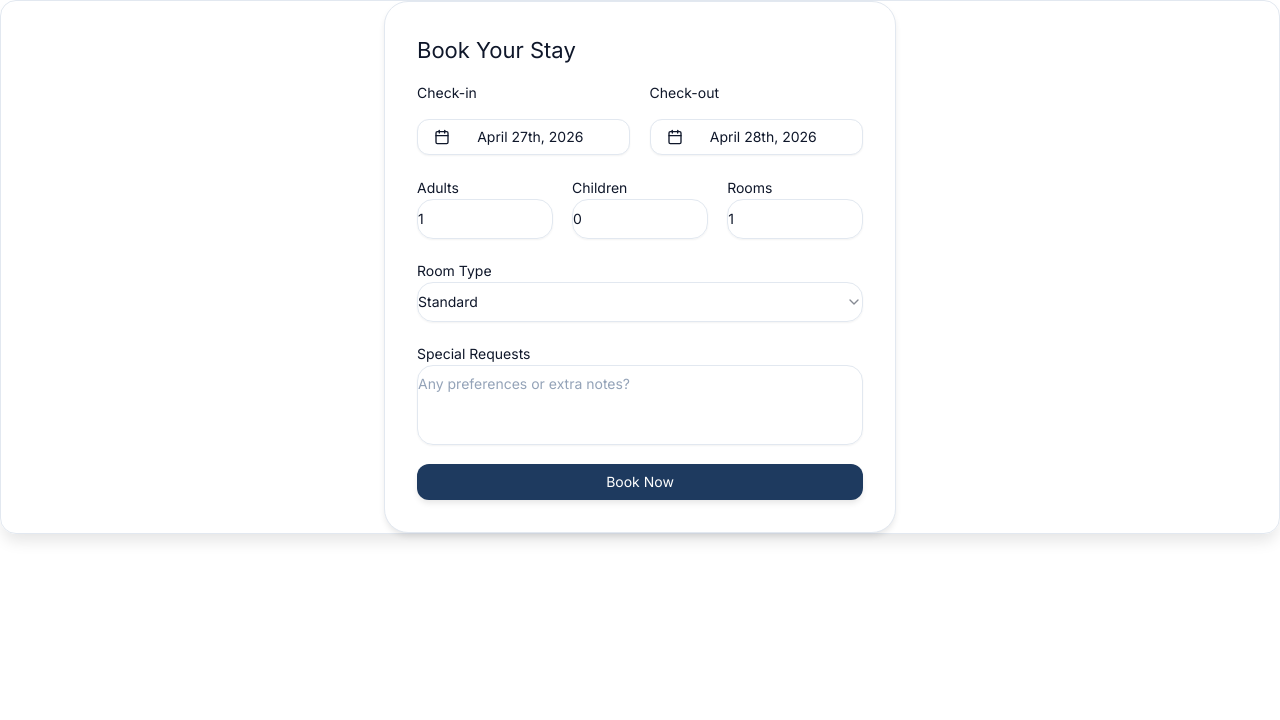
Test case: BookingWidget - Story 1.5 Implementation › AC2: Form Validation and User Experience › validates guest and room numbers with minimum constraints
Note: Test invalid values (below minimum)
Replace the text in the number field labelled "Adults" with "0": (485, 219) x1=417 y1=199 x2=553 y2=239
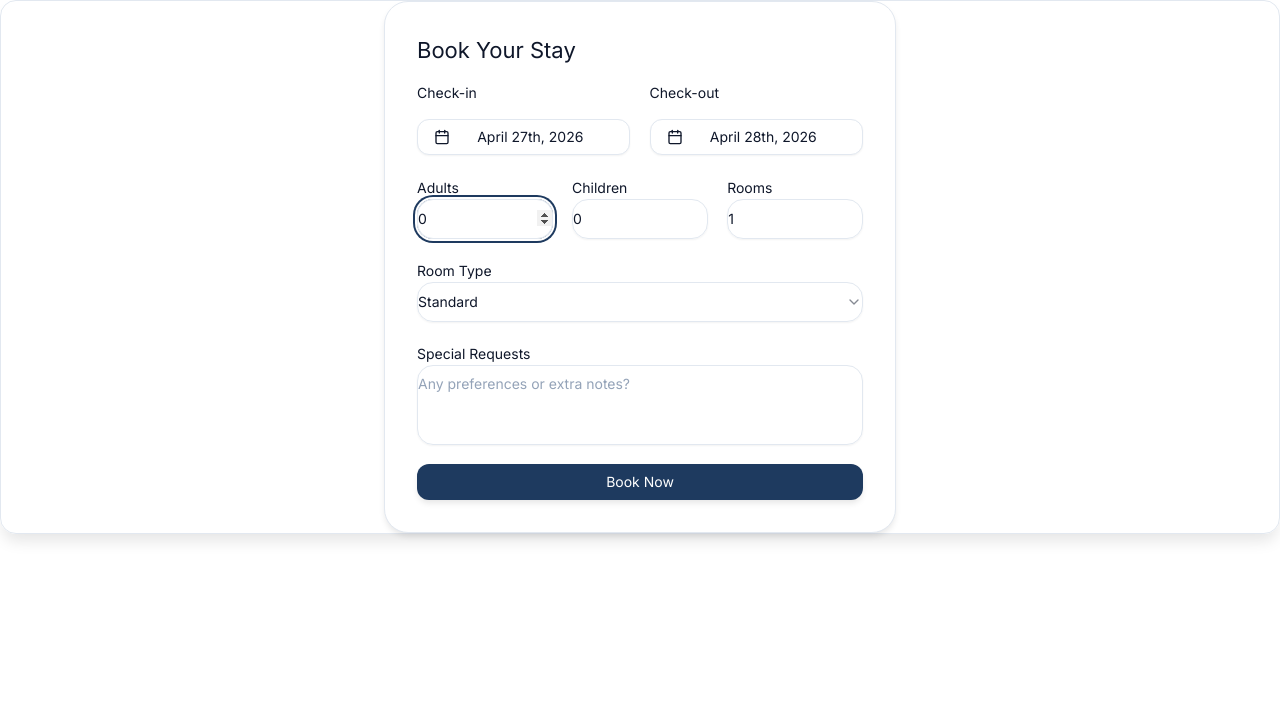
Replace the text in the number field labelled "Rooms" with "0": (795, 219) x1=727 y1=199 x2=863 y2=239
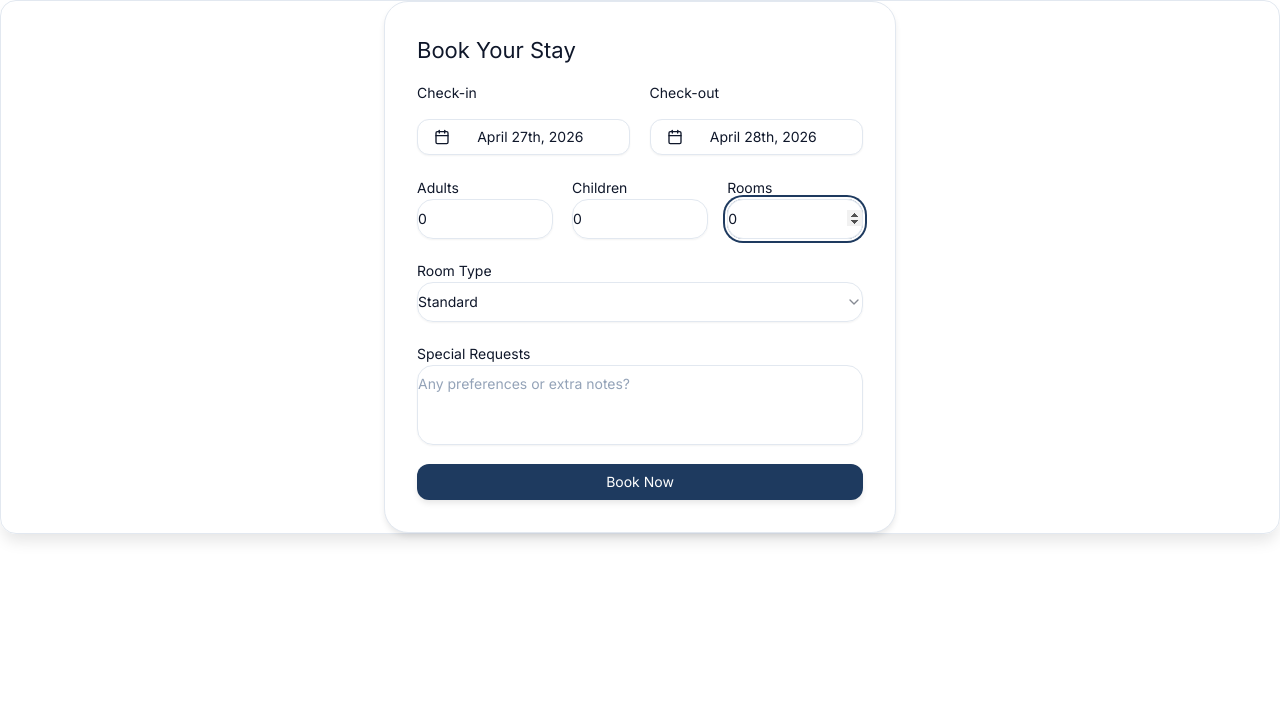
Click the button "Book Now": (640, 482) x1=417 y1=464 x2=863 y2=500
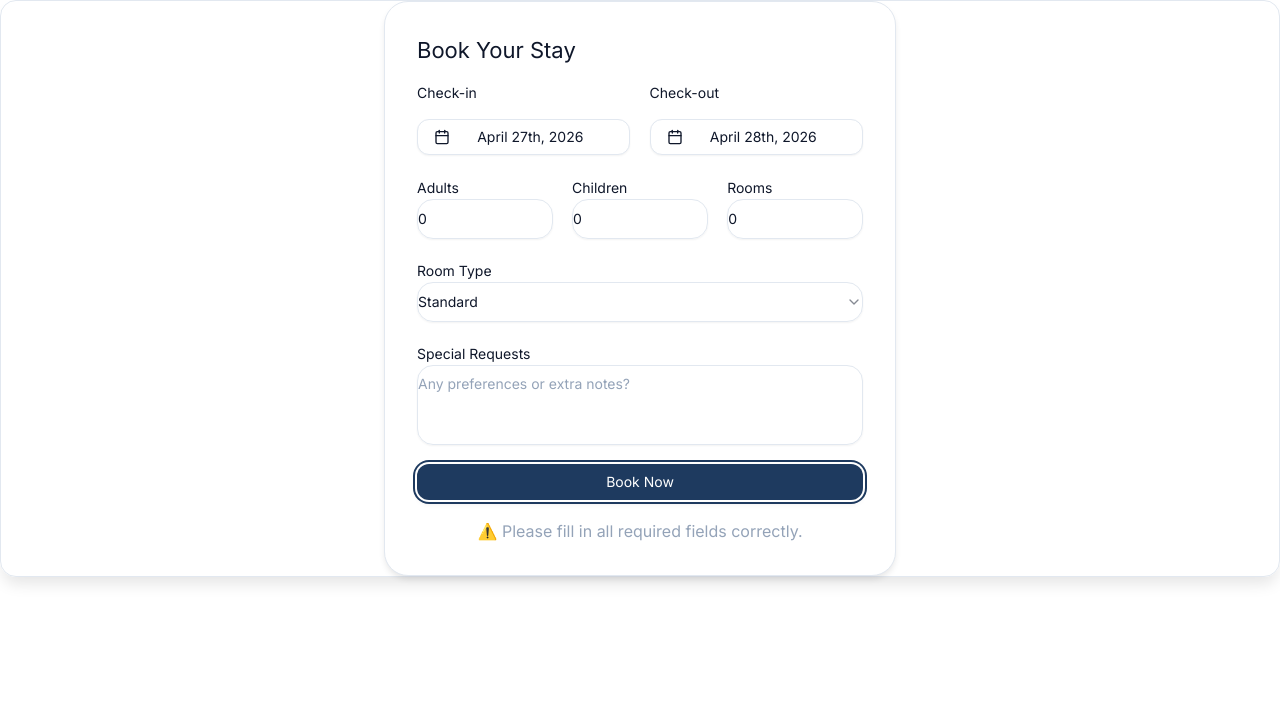
expect the text "⚠️ Please fill in all required fields correctly." is shown: met, box x1=478 y1=521 x2=803 y2=541
